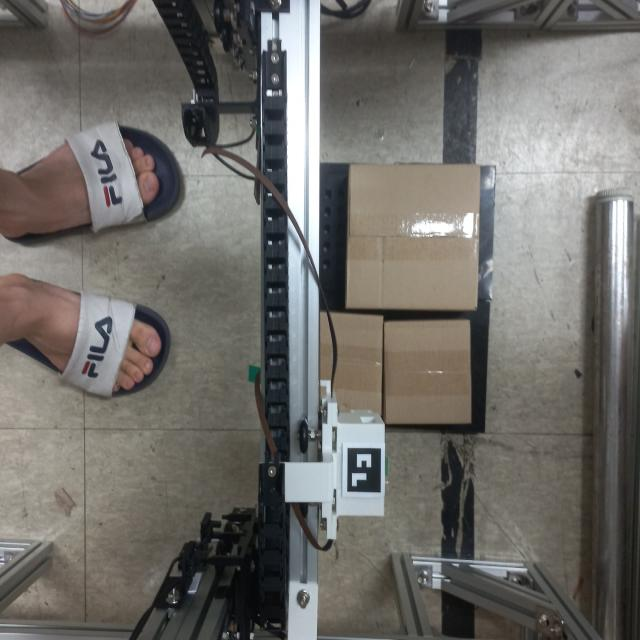box: (344, 162, 483, 314), (381, 315, 476, 431)
